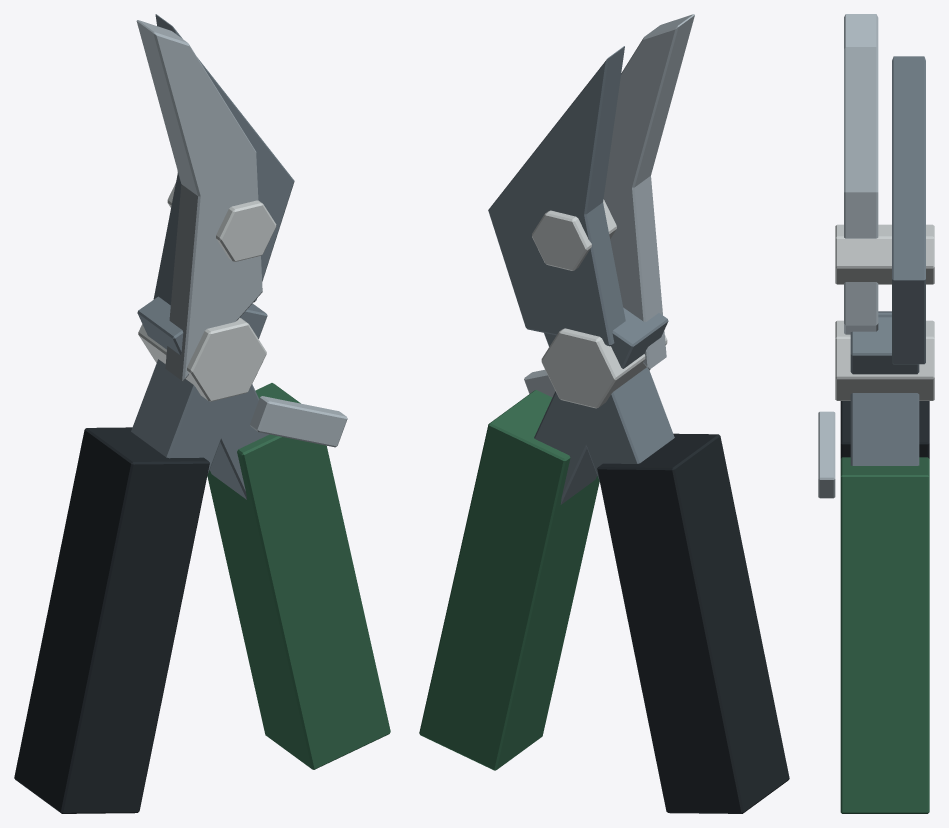
Rendered from b06_aviation_snips.glb.
3 renders of one model, left to right at view 1: azimuth 30°, elevation 25°; view 2: azimuth 150°, elevation 25°; view 3: azimuth 270°, elevation 25°, orthographic. The views are drawn at different scales.
Parts seen in each view (by area): view 1: b06_aviation_snips; view 2: b06_aviation_snips; view 3: b06_aviation_snips.
Boxes of the visible parts, x1,y1,x2,y2 form: b06_aviation_snips: (14,14,390,813); b06_aviation_snips: (419,14,789,813); b06_aviation_snips: (818,14,934,813).
Bounding box in the file's own units: 0.1022 × 0.2294 × 0.034.
